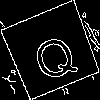Q: (26, 25, 81, 86)
